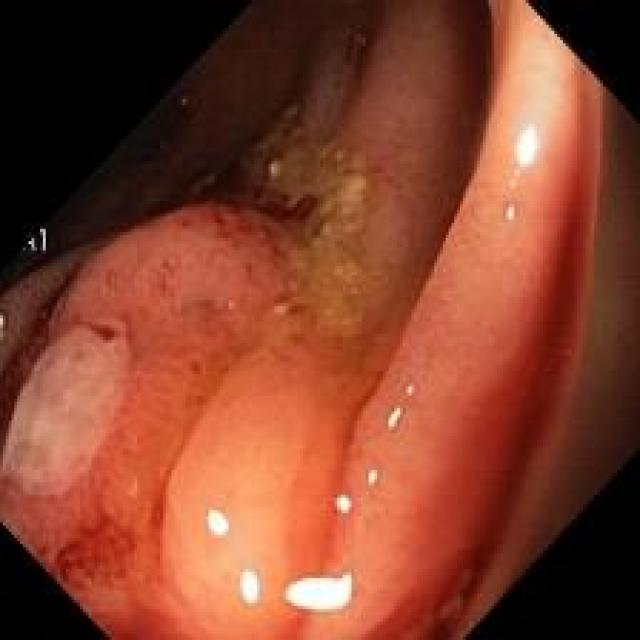Polyps: (1, 204, 292, 637), (161, 346, 359, 637)
